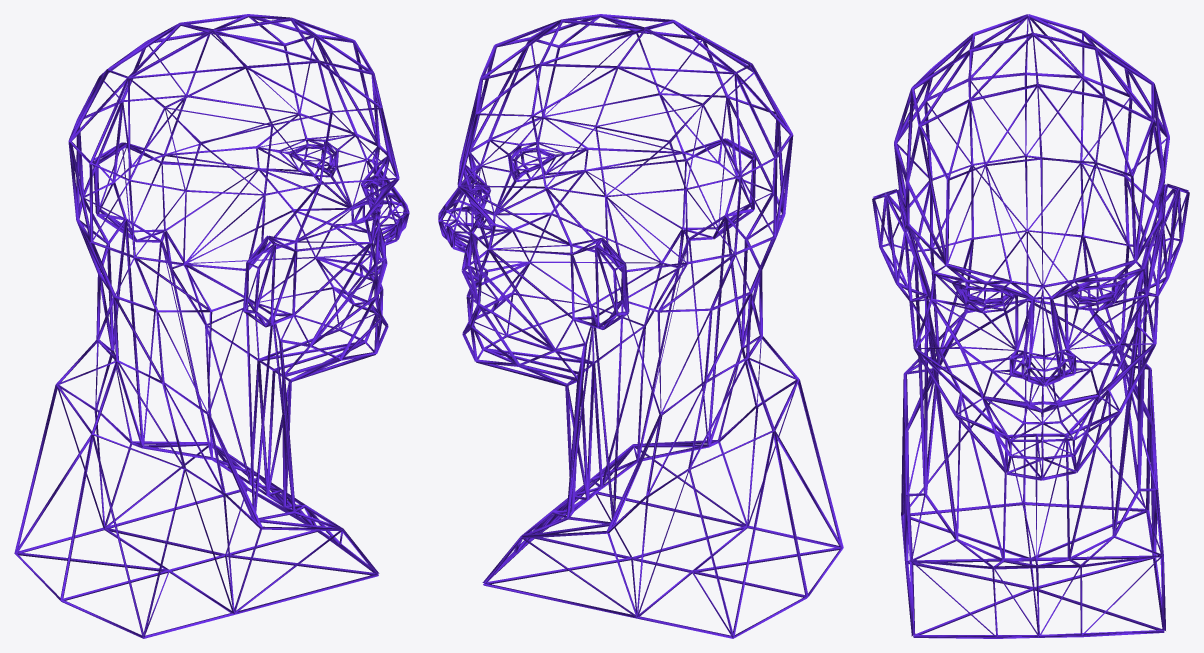
File: head3.glb
3 views of the same model, side by side, from view 1: azimuth 30°, elevation 25°; view 2: azimuth 150°, elevation 25°; view 3: azimuth 270°, elevation 25° (orthographic). The views are drawn at different scales.
Parts seen in each view (by area): view 1: Cube.001_0; view 2: Cube.001_0; view 3: Cube.001_0.
Boxes of the visible parts, box(x1,y1,x2,y2) form: Cube.001_0: box(14, 14, 409, 638); Cube.001_0: box(438, 14, 843, 638); Cube.001_0: box(872, 14, 1189, 638).
Bounding box in the file's own units: 1.09 × 1.56 × 0.8135.
